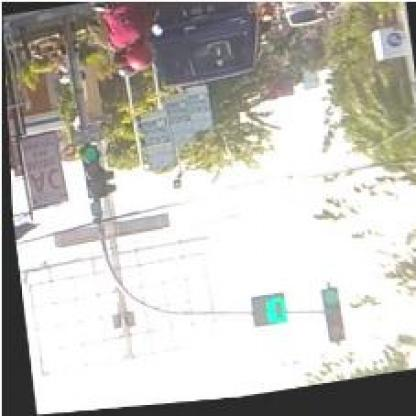green: (78, 145, 105, 200), (317, 290, 339, 348)
